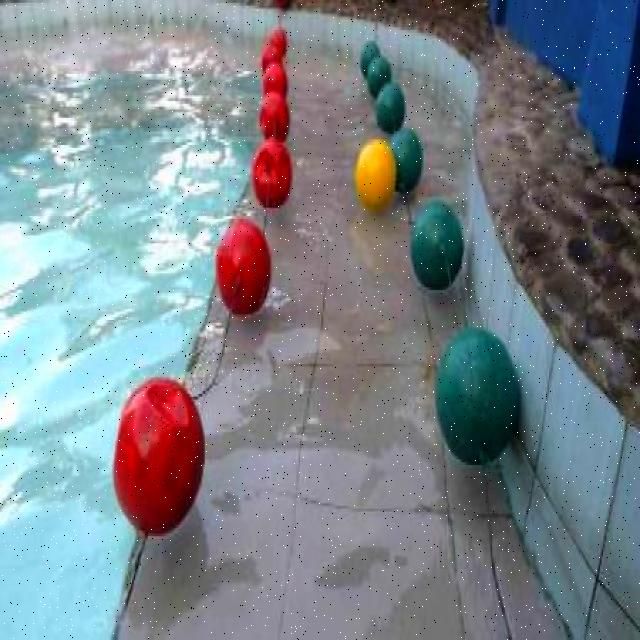buoy: (111, 376, 206, 537), (434, 324, 520, 464), (214, 214, 270, 316), (409, 201, 461, 291), (356, 136, 396, 208), (251, 136, 291, 208), (388, 127, 422, 190), (258, 90, 290, 140), (374, 81, 404, 132), (262, 60, 288, 99), (367, 55, 390, 99), (360, 40, 381, 75)
